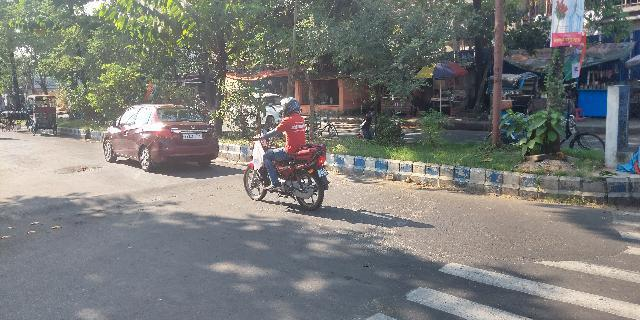Car: (97, 100, 222, 176)
Motorbike: (239, 98, 329, 209)
Rickshaw: (21, 95, 59, 137)
